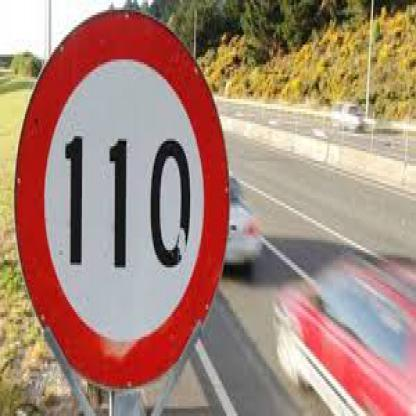Speed Limit 110: (22, 12, 227, 386)
